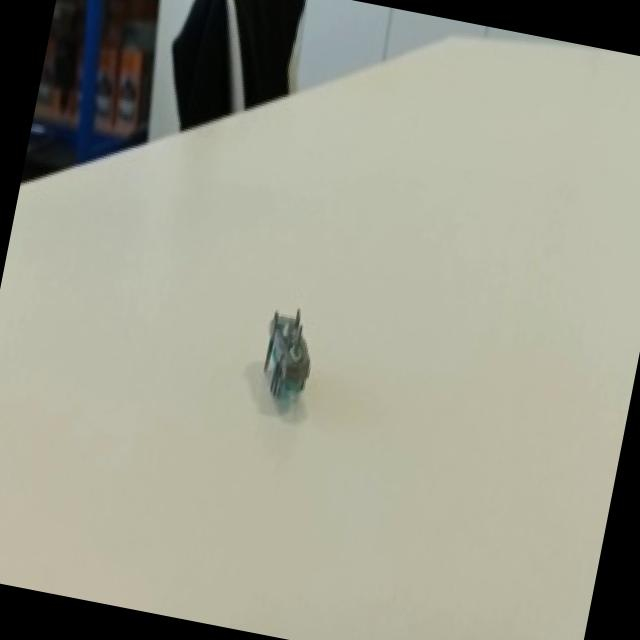5_NanoBug_GrisClaro: (214, 248, 372, 445)
